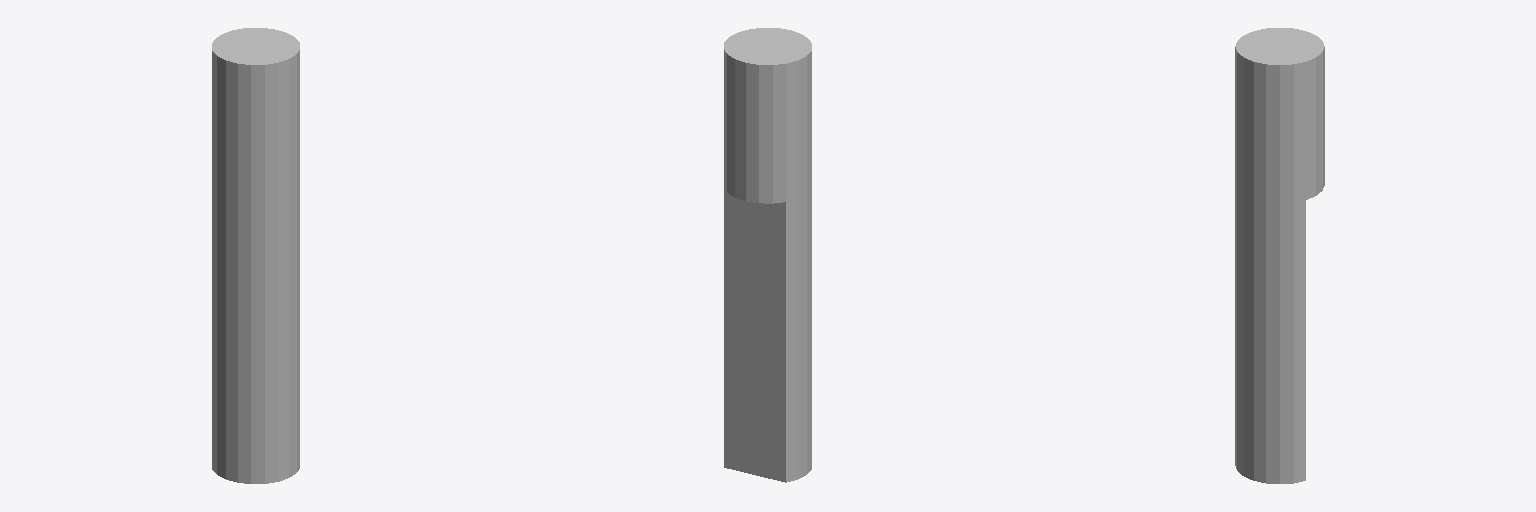
Rendered from Axis.obj.
3 views of the same model, side by side, from view 1: azimuth 30°, elevation 25°; view 2: azimuth 150°, elevation 25°; view 3: azimuth 270°, elevation 25° (orthographic).
Parts seen in each view (by area): view 1: Axis.001; view 2: Axis.001; view 3: Axis.001.
Boxes of the visible parts, <box> form: Axis.001: <box>212,28,299,483</box>; Axis.001: <box>724,28,811,482</box>; Axis.001: <box>1235,28,1324,483</box>.
Bounding box in the file's own units: 0.0026 × 0.0134 × 0.0026.